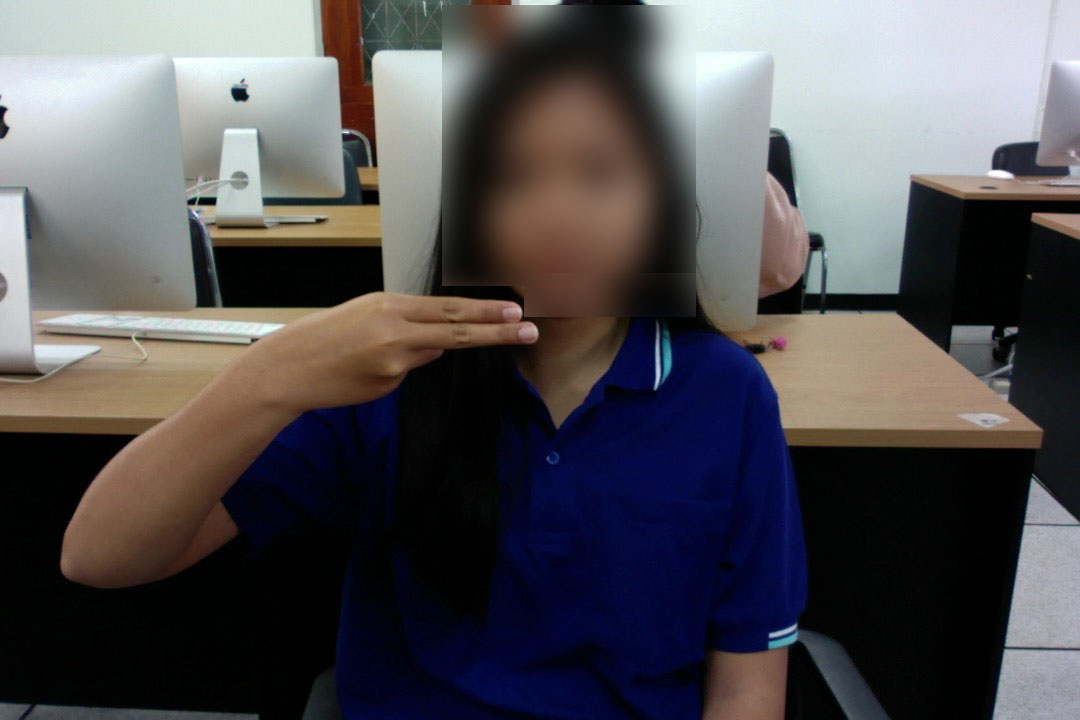hor: (281, 286, 541, 414)
